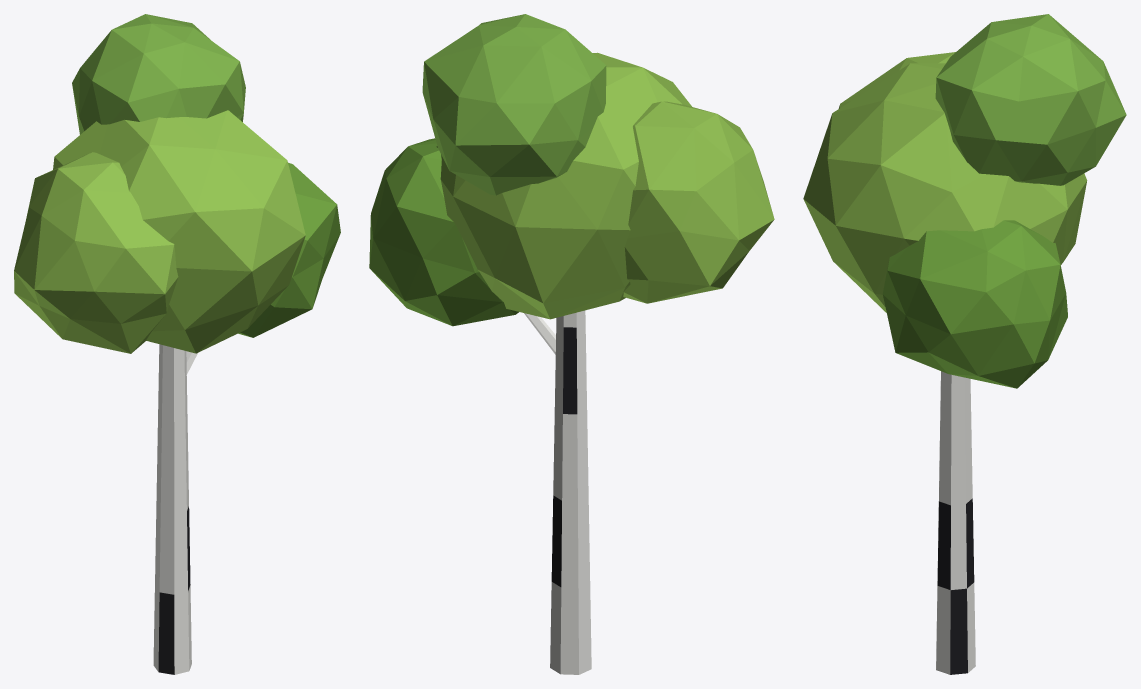
The model's file is SM_Birch_Tree.glb.
3 views of the same model, side by side, from view 1: azimuth 30°, elevation 25°; view 2: azimuth 150°, elevation 25°; view 3: azimuth 270°, elevation 25° (orthographic). The views are drawn at different scales.
Parts seen in each view (by area): view 1: SM_Birch_Tree; view 2: SM_Birch_Tree; view 3: SM_Birch_Tree.
Boxes of the visible parts, x1,y1,x2,y2 form: SM_Birch_Tree: (14, 14, 340, 674); SM_Birch_Tree: (369, 14, 774, 674); SM_Birch_Tree: (803, 14, 1126, 674).
Bounding box in the file's own units: 1.73 × 3.08 × 1.39.
1 material, 1 textured.
